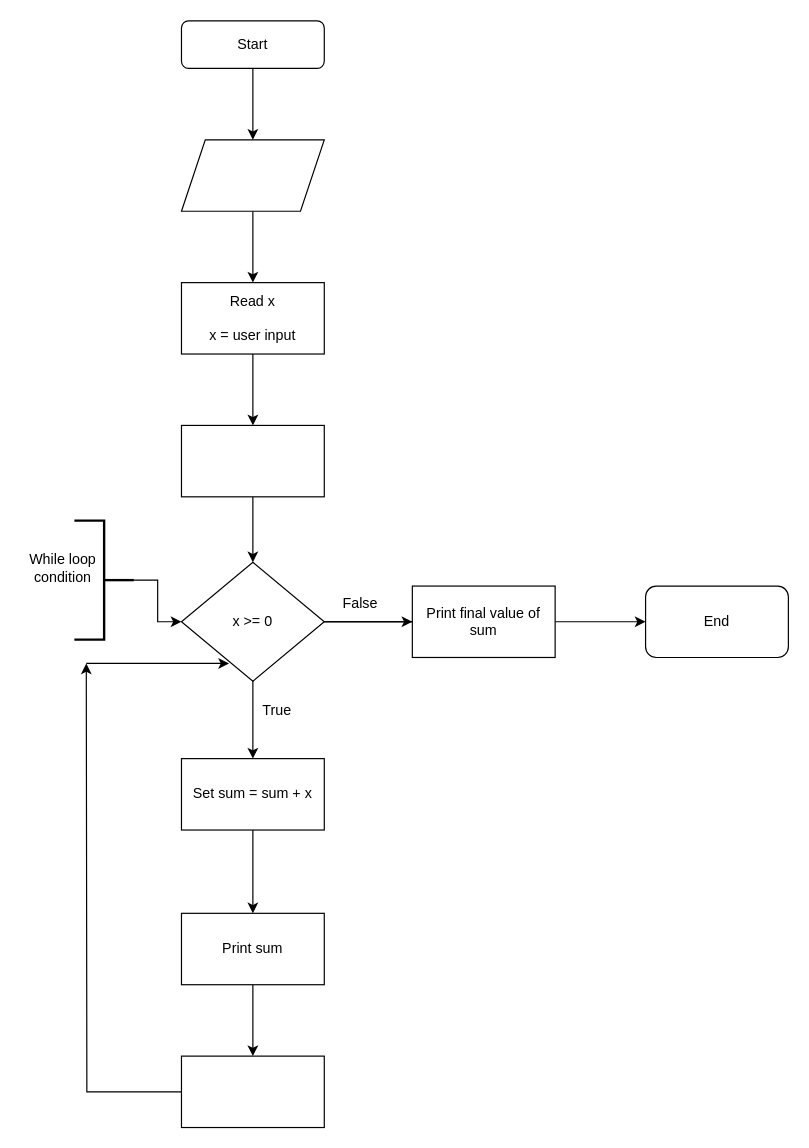
Some shapes in this 809 by 1148 pixel diagram are drawn without their labels. The shapes that lost their labels are listed below. From the top down, each one's centre as x and y in pixels, then its label:
At [252,175]: "Input: user input".
At [252,460]: "Initialize sum to 0 sum = 0".
At [252,1091]: "Read x".
